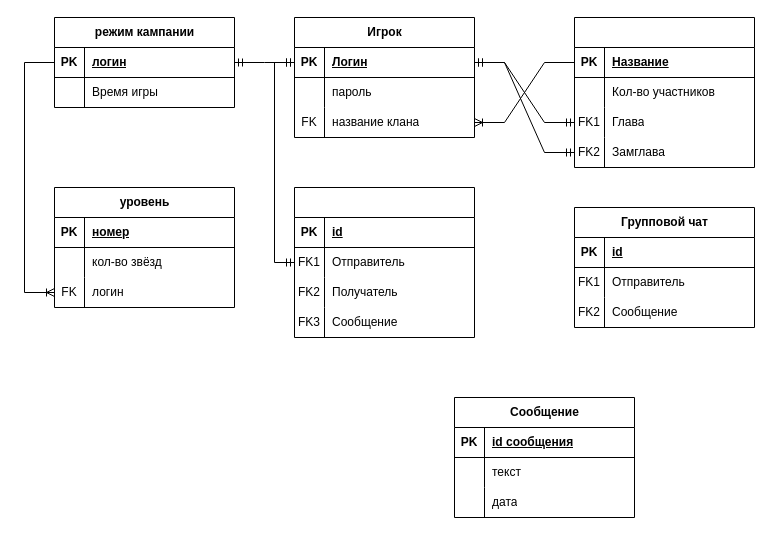
This 772x535 diagram has some shape labels left out. Here are the shapes that lost their labels. From the top down, the box of each, then its label:
(574, 16, 754, 168): Клан
(294, 186, 474, 338): Персональный чат
